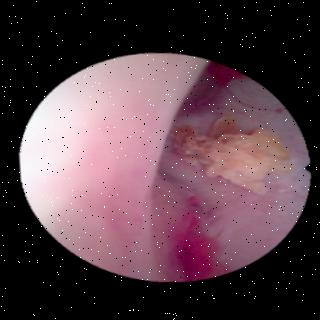stone: (174, 114, 292, 192)
tissue: (28, 56, 306, 276)
